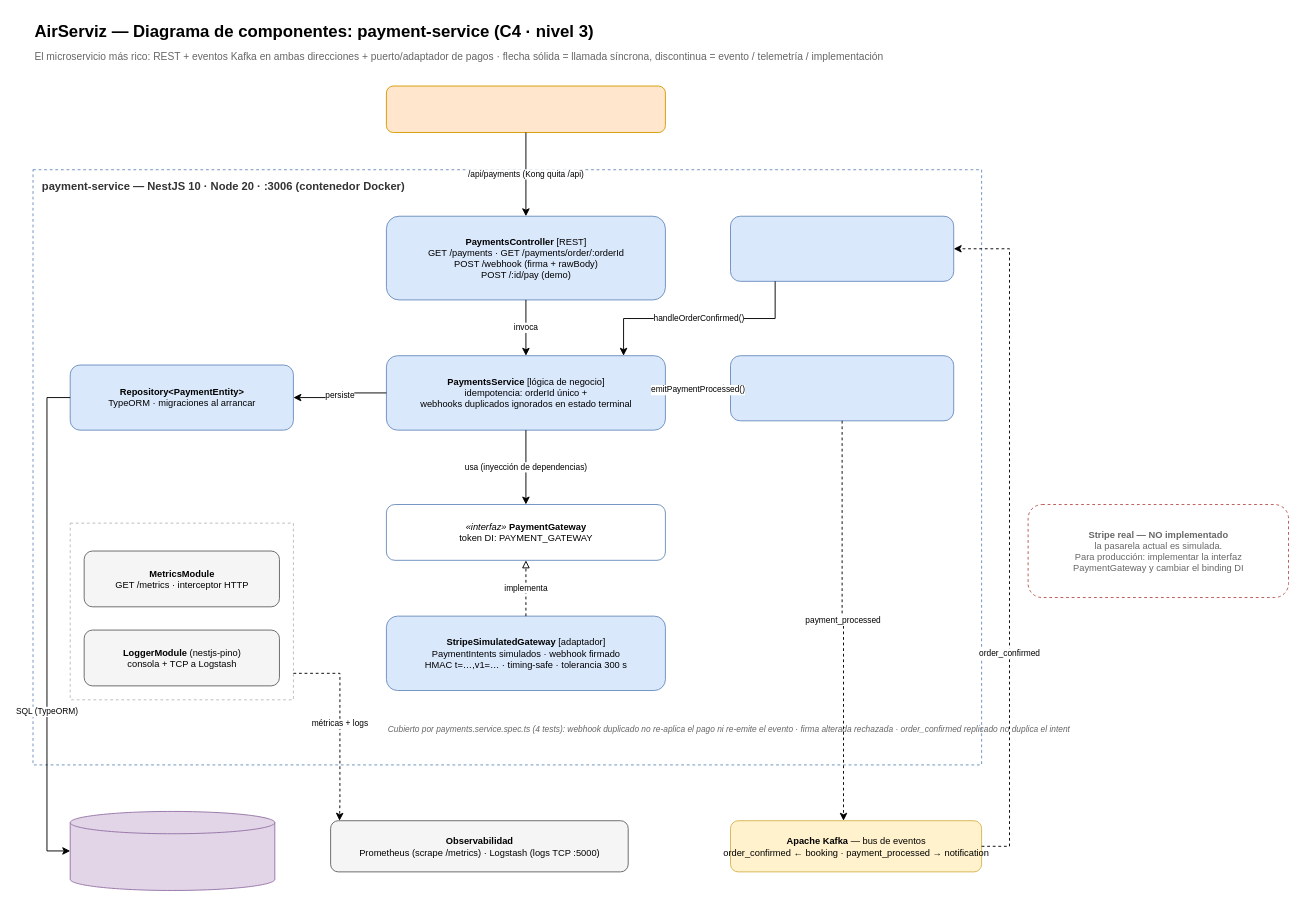
Some shapes in this 1305 by 907 pixel diagram are drawn without their labels. The box of each missing label's shape, as (x1, y1, x2, y2) in pixels:
API Gateway — Kong :8000 valida JWT y rate-limit antes de llegar aquí: (385, 85, 665, 133)
KafkaProducerService emite payment_processed (gzip · key = orderId): (730, 355, 954, 421)
PaymentsConsumer [Kafka] grupo payment-service-group suscrito a order_confirmed: (730, 215, 954, 281)
PostgreSQL payments_db :5436 tabla payments: (69, 810, 275, 890)
Transversales: (69, 522, 293, 700)
